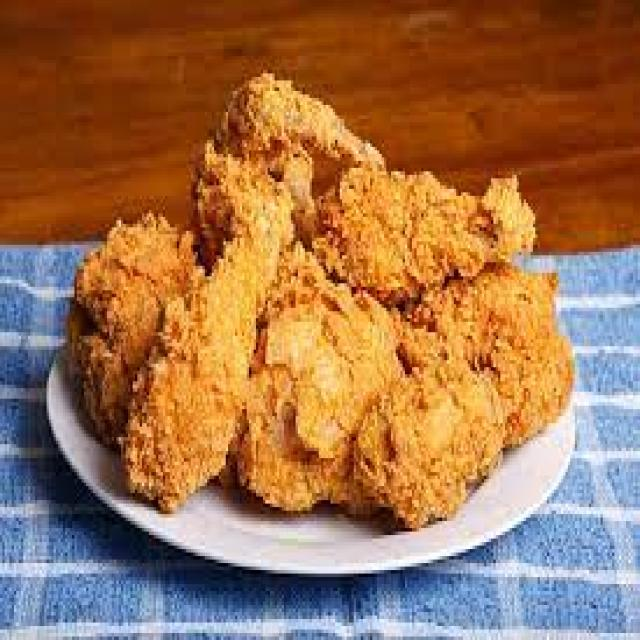Frango: (63, 53, 582, 549)
